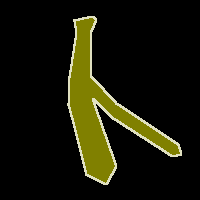tie: (68, 16, 181, 184)
